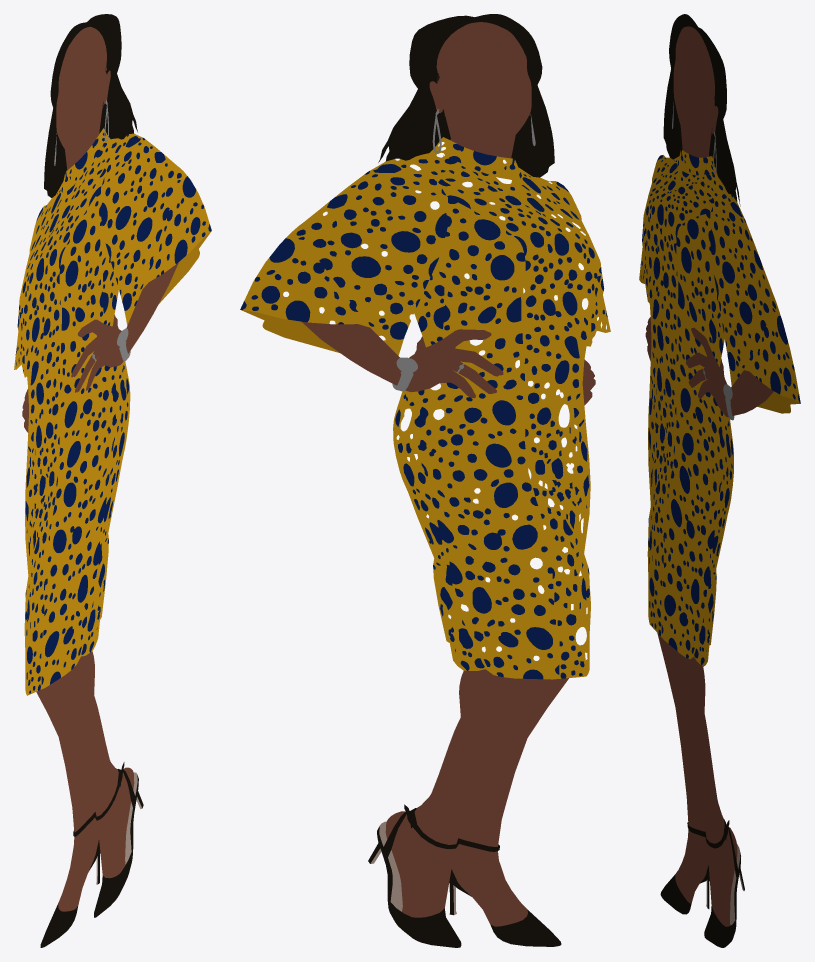
The picture shows the model from 3 angles, left to right: view 1: azimuth 30°, elevation 25°; view 2: azimuth 150°, elevation 25°; view 3: azimuth 270°, elevation 25°; orthographic projection. The views are drawn at different scales.
Parts seen in each view (by area): view 1: Sumele1; view 2: Sumele1; view 3: Sumele1.
Part boxes in pixels (x1=…): Sumele1: x1=14, y1=14, x2=211, y2=947; Sumele1: x1=240, y1=14, x2=610, y2=947; Sumele1: x1=639, y1=14, x2=800, y2=947.
Size of what is drawn, in the model's own units: 0.5311 by 1.65 by 0.266.
